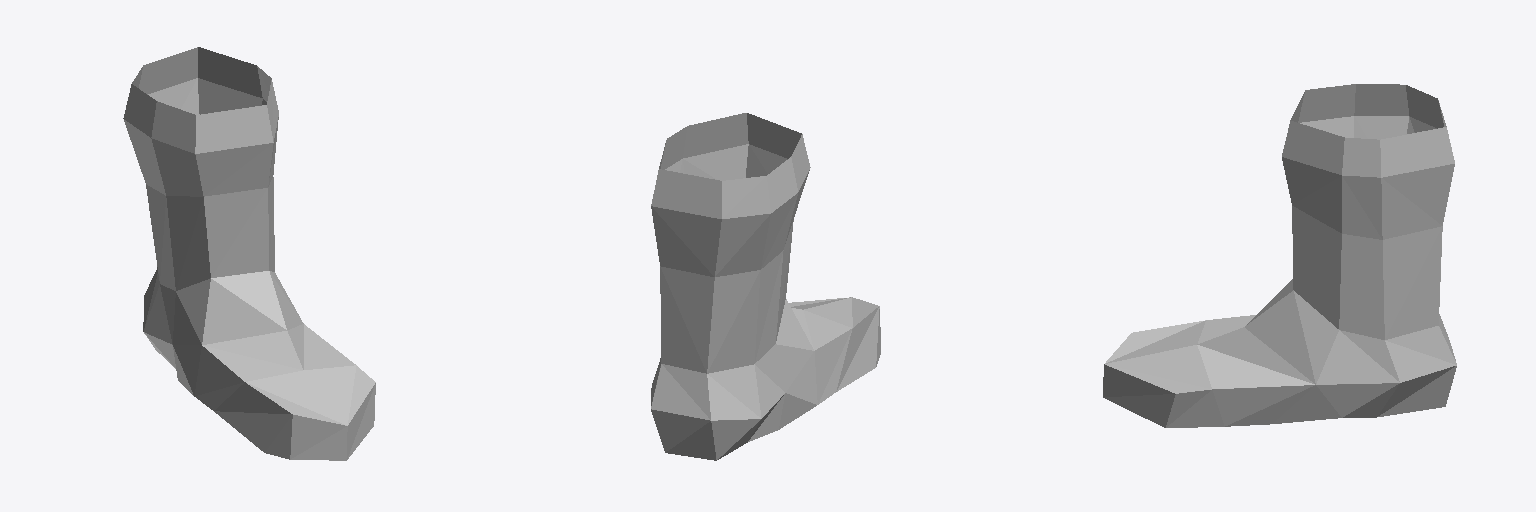
Rendered from LAS_1_Foot_L.obj.
The picture shows the model from 3 angles: view 1: azimuth 30°, elevation 25°; view 2: azimuth 150°, elevation 25°; view 3: azimuth 270°, elevation 25°; orthographic projection.
Visible parts, largest first — view 1: Knight.027_proxy741.obj.026; view 2: Knight.027_proxy741.obj.026; view 3: Knight.027_proxy741.obj.026.
Boxes of the visible parts, <box> form: Knight.027_proxy741.obj.026: <box>123,47,375,460</box>; Knight.027_proxy741.obj.026: <box>651,113,880,460</box>; Knight.027_proxy741.obj.026: <box>1103,84,1456,427</box>.
Size of the model in its own units: 0.1521 by 0.3071 by 0.3442.